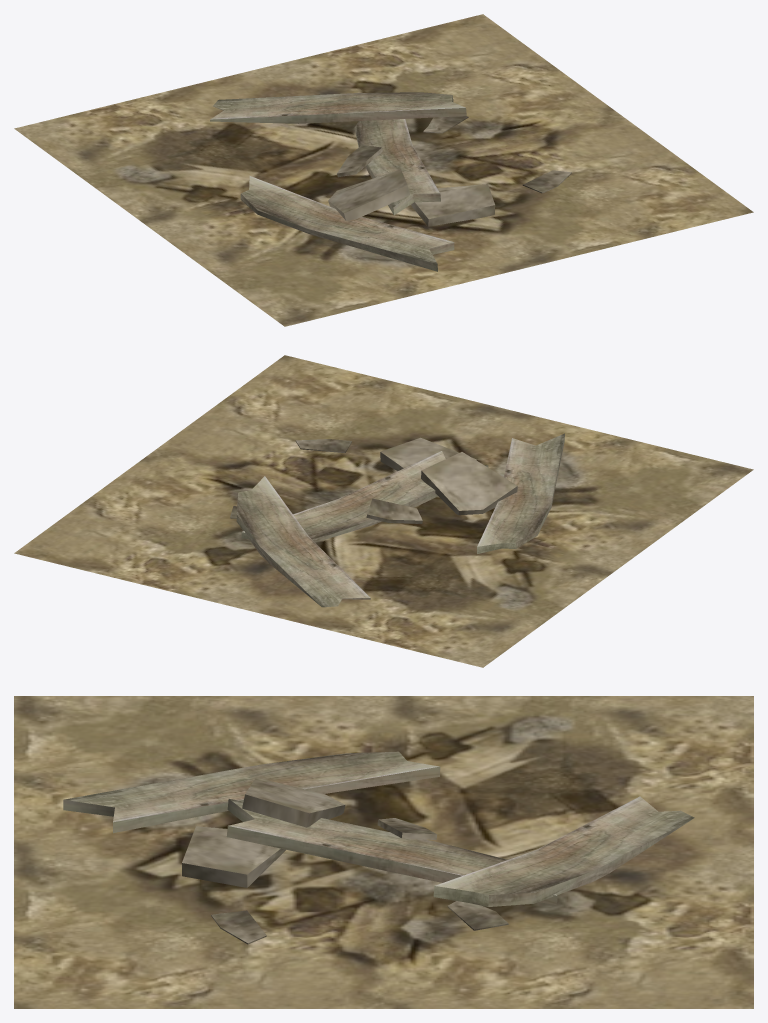
File: pir_m_prp_spn_debris_stuccoC.fbx
3 renders of one model, top to bottom at view 1: azimuth 30°, elevation 25°; view 2: azimuth 150°, elevation 25°; view 3: azimuth 270°, elevation 25°, orthographic. The views are drawn at different scales.
Parts seen in each view (by area): view 1: debris, debris_boardA3, debris_boardA1, debris_boardA2, polySurface19, polySurface18, polySurface22, polySurface20; view 2: debris, debris_boardA1, debris_boardA3, debris_boardA2, polySurface18, polySurface19, polySurface22, polySurface20; view 3: debris, debris_boardA3, debris_boardA1, debris_boardA2, polySurface19, polySurface18, polySurface20, polySurface21, polySurface22.
Boxes of the visible parts, <box> form: debris: <box>14,14,753,326</box>; debris_boardA3: <box>240,176,454,271</box>; debris_boardA1: <box>210,92,466,123</box>; debris_boardA2: <box>354,119,440,215</box>; polySurface19: <box>411,184,495,226</box>; polySurface18: <box>328,169,410,220</box>; polySurface22: <box>337,145,382,177</box>; polySurface20: <box>522,170,571,193</box>; debris: <box>14,355,753,667</box>; debris_boardA1: <box>236,476,370,607</box>; debris_boardA3: <box>477,433,564,553</box>; debris_boardA2: <box>241,451,488,542</box>; polySurface18: <box>421,452,517,515</box>; polySurface19: <box>380,437,476,470</box>; polySurface22: <box>366,498,422,523</box>; polySurface20: <box>295,439,351,452</box>; debris: <box>14,696,753,1008</box>; debris_boardA3: <box>63,751,440,833</box>; debris_boardA1: <box>433,796,694,906</box>; debris_boardA2: <box>226,798,557,905</box>; polySurface19: <box>182,826,285,887</box>; polySurface18: <box>242,777,345,827</box>; polySurface20: <box>211,910,266,944</box>; polySurface21: <box>447,901,508,930</box>; polySurface22: <box>377,818,437,839</box>.
Size of the model in its own units: 1074 by 84.81 by 1074.
Materials: 2 (2 with a texture image).
